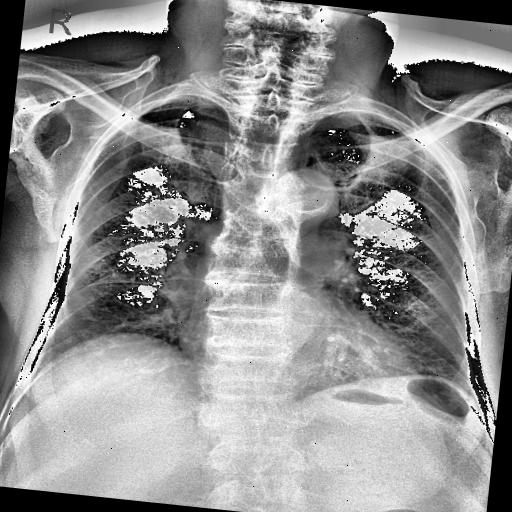0- Aortic enlargement: (265, 162, 340, 224), (275, 167, 336, 231), (272, 166, 332, 221)
3- Cardiomegaly: (173, 299, 426, 390), (174, 314, 423, 392), (174, 326, 423, 395)
